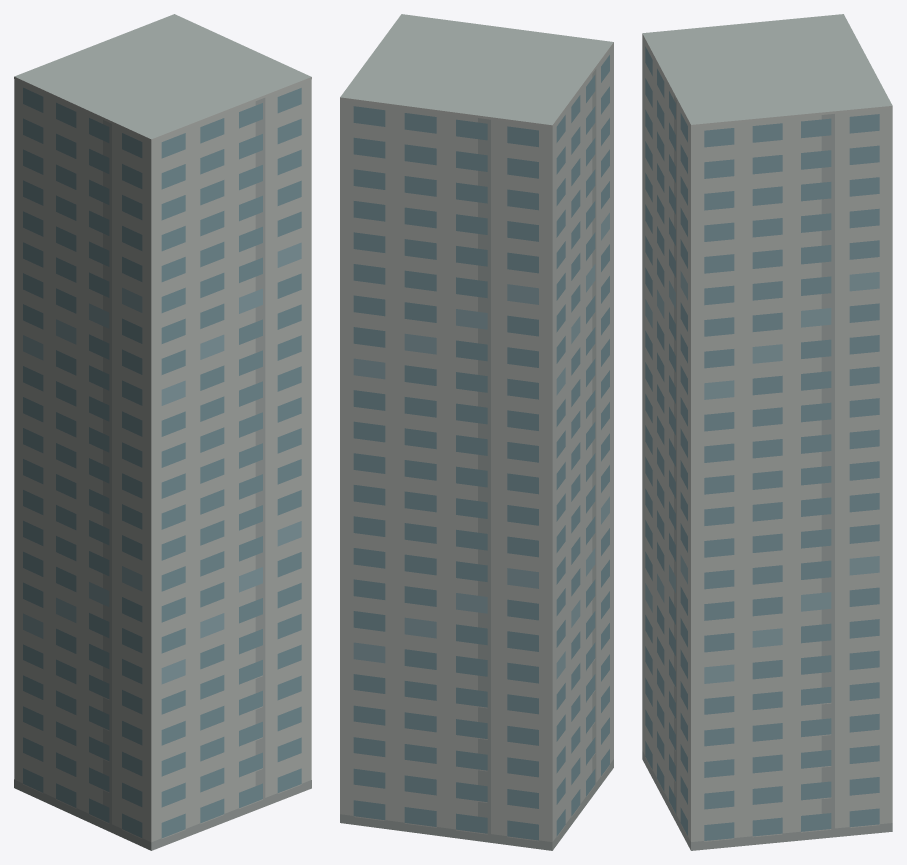
Rendered from residential-2219da41-9f48-46c5-83aa-0fdee725de55.glb.
3 renders of one model, left to right at view 1: azimuth 30°, elevation 25°; view 2: azimuth 150°, elevation 25°; view 3: azimuth 270°, elevation 25°, orthographic. The views are drawn at different scales.
Visible parts, largest first — view 1: residential-2219da41-9f48-46c5-83aa-0fdee725de55.tmp; view 2: residential-2219da41-9f48-46c5-83aa-0fdee725de55.tmp; view 3: residential-2219da41-9f48-46c5-83aa-0fdee725de55.tmp.
Boxes of the visible parts, left/top/right/bottom form: residential-2219da41-9f48-46c5-83aa-0fdee725de55.tmp: left=14, top=14, right=311, bottom=850; residential-2219da41-9f48-46c5-83aa-0fdee725de55.tmp: left=340, top=14, right=613, bottom=850; residential-2219da41-9f48-46c5-83aa-0fdee725de55.tmp: left=642, top=14, right=892, bottom=850.
Bounding box in the file's own units: 23 × 70.15 × 21.94.
